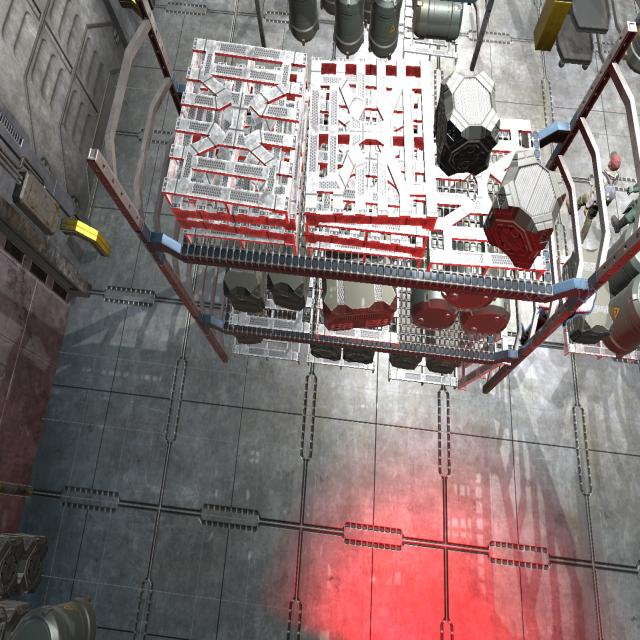thiefs: (566, 148, 623, 249)
